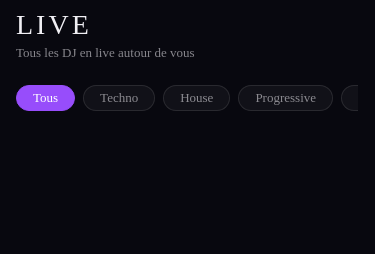
it: LivesScreen › filtre les lives par genre House
Click the text "House": [197, 98] box [180, 90, 213, 106]
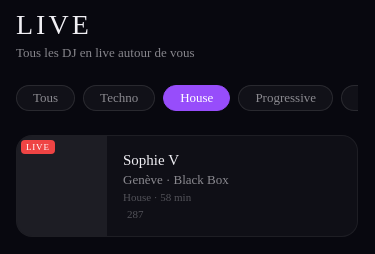
Check: the text "Sophie V" is shown, box [123, 152, 179, 168]
